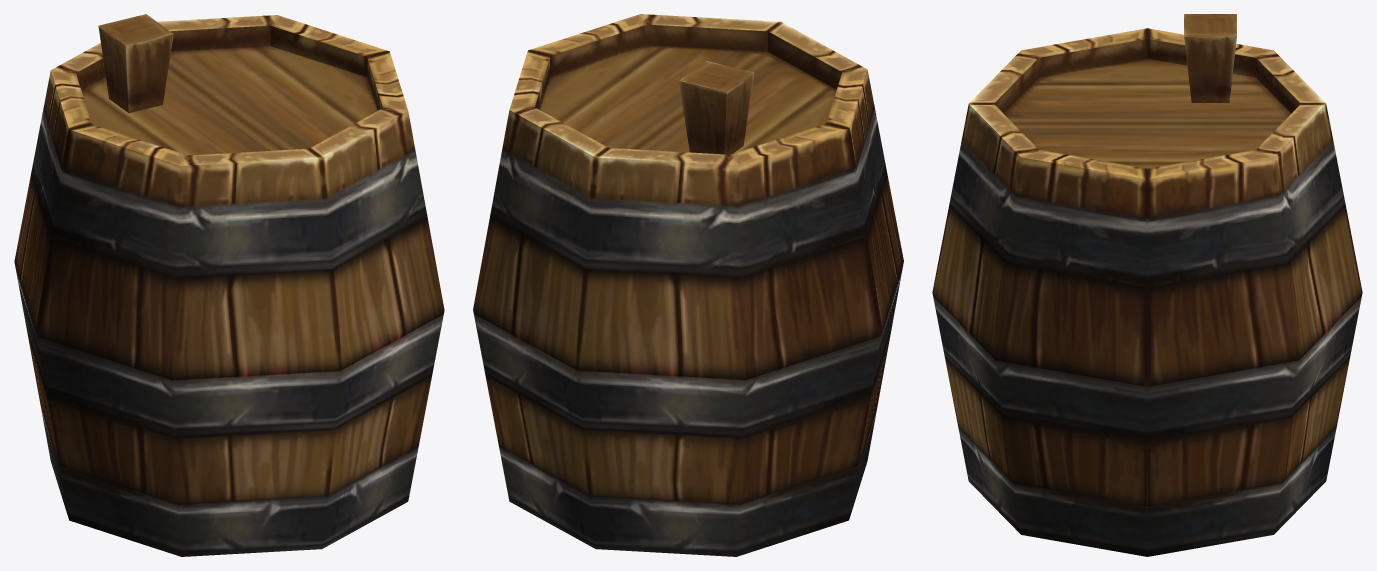
File: Tong01.FBX
3 renders of one model, left to right at view 1: azimuth 30°, elevation 25°; view 2: azimuth 150°, elevation 25°; view 3: azimuth 270°, elevation 25°, orthographic. The views are drawn at different scales.
Parts seen in each view (by area): view 1: Tong01; view 2: Tong01; view 3: Tong01.
Part boxes in pixels (<box>): Tong01: <box>14,14,444,556</box>; Tong01: <box>473,14,903,556</box>; Tong01: <box>932,14,1362,556</box>.
Bounding box in the file's own units: 51.17 × 56.1 × 51.17.
